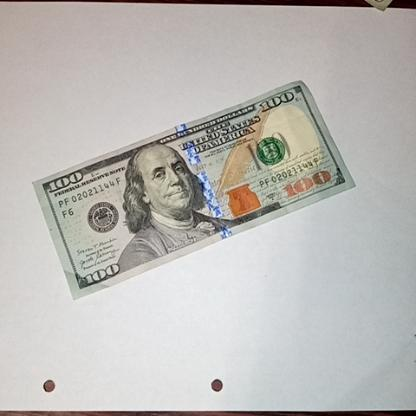dollar_front: (31, 78, 358, 304)
